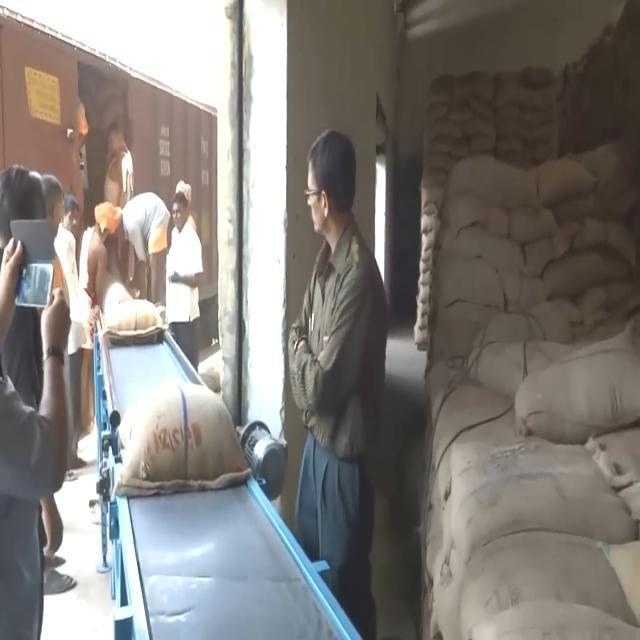gunny_bag: (458, 529, 638, 640), (436, 467, 634, 565), (105, 378, 258, 502), (516, 322, 640, 444), (466, 340, 570, 396), (444, 144, 532, 210), (540, 244, 632, 304), (442, 222, 528, 274), (438, 250, 510, 309), (98, 293, 176, 347), (533, 153, 603, 204), (507, 199, 555, 246)
